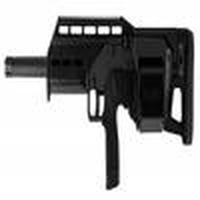gun: (3, 13, 200, 147)
